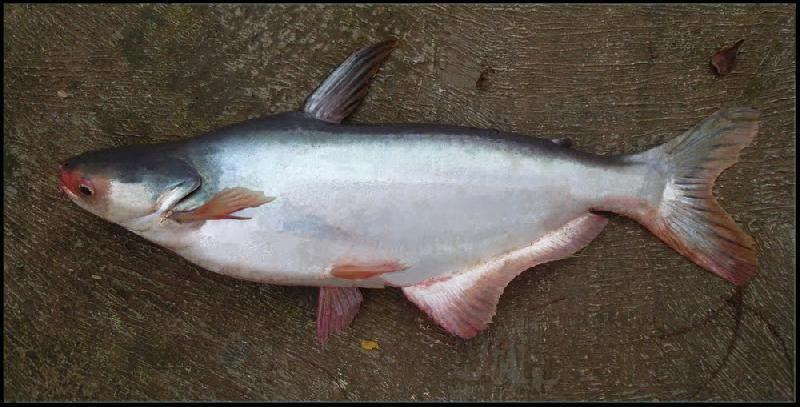Pangasius: (56, 35, 762, 350)
